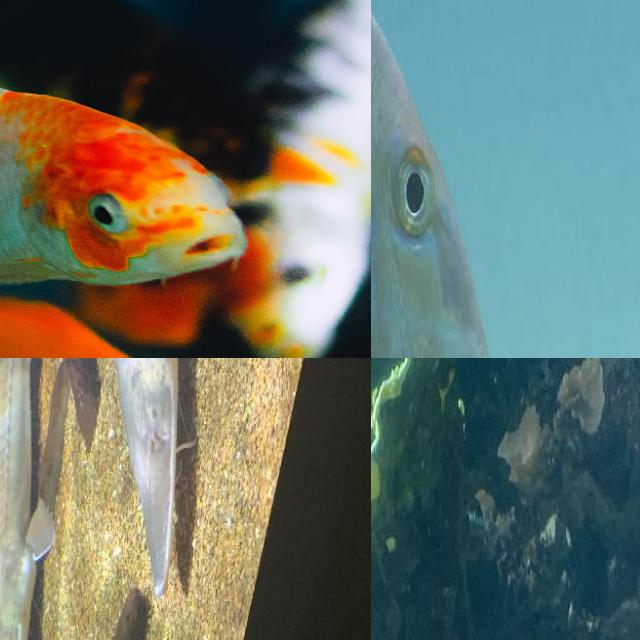fish: (0, 0, 371, 358), (371, 0, 640, 358), (0, 358, 56, 640)
